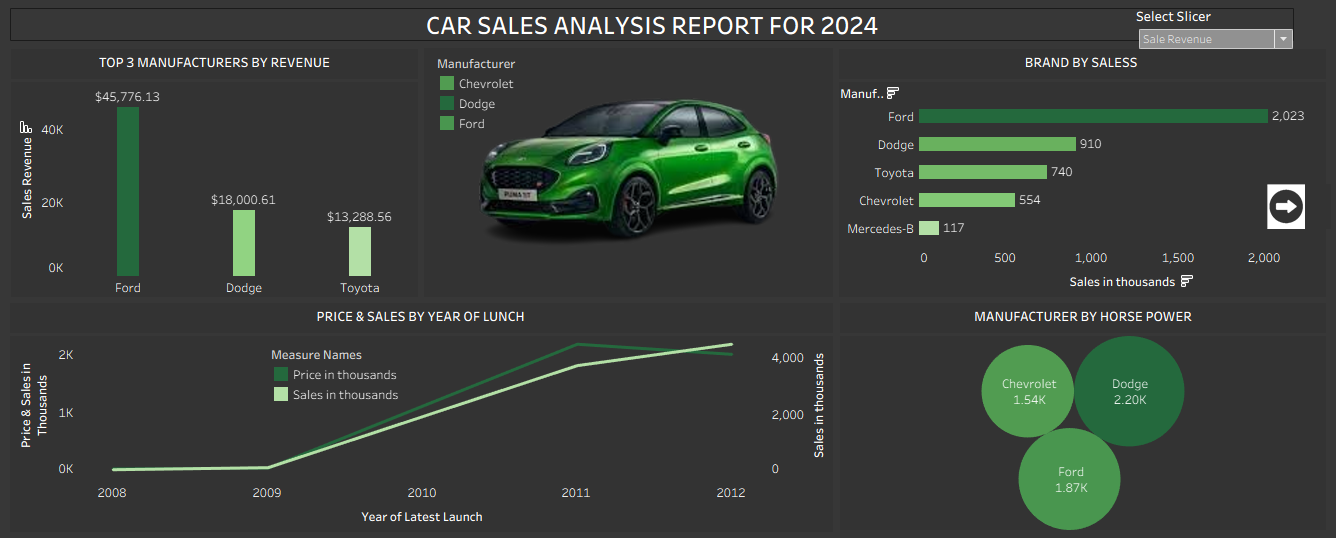

This screenshot's page, from the dashboard's own definition file:
{"tool":"tableau","page":{"name":"DASHBOARD 1","canvas":[1000,1000],"units":"permille","ordinal":0},"visuals":[{"type":"title","box":[6,14.7,868.7,75.4]},{"type":"parameter","param":"[Parameters].[Parameter 1]","box":[874.6,14.7,119.4,97.4]},{"type":"worksheet","title":"Sheet 9","mark":"Automatic","box":[6,90.1,868.7,895.2]},{"type":"image","param":"Image/FORD_2-removebg-preview.png","box":[317.9,95.6,305.2,457.7]},{"type":"worksheet","title":"TOP 3 MANUFACTURERS BY REVENUE","mark":"Automatic","rows":["Calculation_912260427037065216"],"cols":["Manufacturer"],"box":[9.7,97.4,303.7,455.9]},{"type":"worksheet","title":"BRAND BY SALES","mark":"Automatic","rows":["Manufacturer"],"cols":["Sales_in_thousands"],"box":[627.7,97.4,363.6,455.9]},{"type":"legend","title":"MANUFACTURER BY HORSEPOWER","param":"[federated.0q8nu0v1givuem17rw8a115go641].[none:Manufacturer:nk]","box":[327.6,108.5,85.8,288.6]},{"type":"dashboard-object","box":[928.3,345.6,66.5,82.7]},{"type":"worksheet","title":"PRICE & SALES BY YEAR OF LUNCH","mark":"Automatic","rows":["Price_in_thousands","Sales_in_thousands"],"cols":["Latest_Launch"],"box":[8.6,564.3,614.9,421]},{"type":"worksheet","title":"MANUFACTURER BY HORSEPOWER","mark":"Circle","box":[628.4,564.3,362.7,417.3]},{"type":"legend","title":"PRICE & SALES BY YEAR OF LUNCH","param":"[federated.0q8nu0v1givuem17rw8a115go641].[:Measure Names]","box":[203.5,643.4,121.2,106.6]},{"type":"legend","title":"BRAND BY SALES","param":"[federated.0q8nu0v1givuem17rw8a115go641].[sum:Sales_in_thousands:qk]","box":[498.5,715.1,83.6,57]}]}

Visuals, with their boxes on the dashboard's canvas, which has no fixed pixel size, in thousandths of its width and height (x1, y1, x2, y2). These are canvas units, not pixel positions in the 1336x538 screenshot, which may show the page scaled, cropped or inside an application window:
title: detection(6, 15, 875, 90)
parameter: detection(875, 15, 994, 112)
"Sheet 9" worksheet: detection(6, 90, 875, 985)
image: detection(318, 96, 623, 553)
"TOP 3 MANUFACTURERS BY REVENUE" worksheet: detection(10, 97, 313, 553)
"BRAND BY SALES" worksheet: detection(628, 97, 991, 553)
"MANUFACTURER BY HORSEPOWER" legend: detection(328, 108, 413, 397)
dashboard-object: detection(928, 346, 995, 428)
"PRICE & SALES BY YEAR OF LUNCH" worksheet: detection(9, 564, 624, 985)
"MANUFACTURER BY HORSEPOWER" worksheet (Circle marks): detection(628, 564, 991, 982)
"PRICE & SALES BY YEAR OF LUNCH" legend: detection(204, 643, 325, 750)
"BRAND BY SALES" legend: detection(498, 715, 582, 772)
